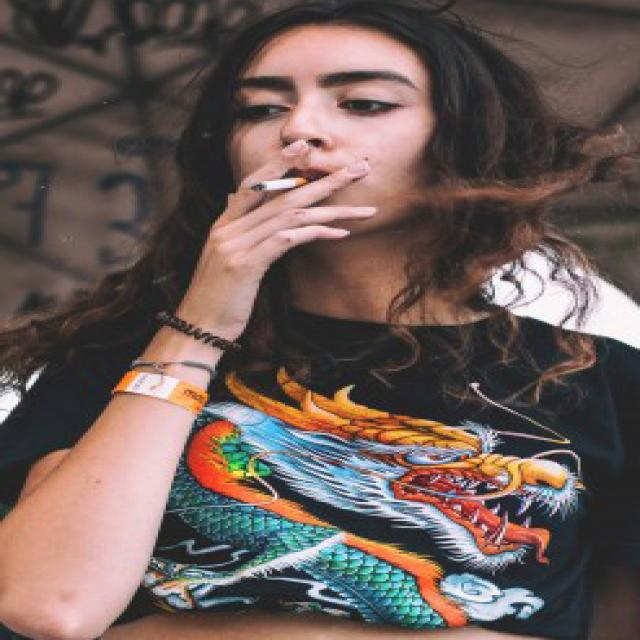smoking: (250, 172, 313, 195)
